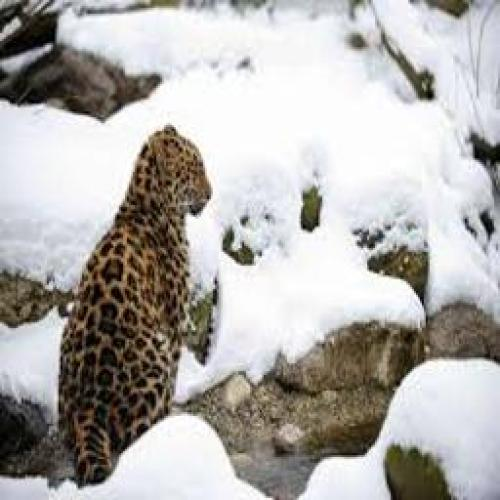amur_leopard-endangered: (55, 121, 219, 481)
